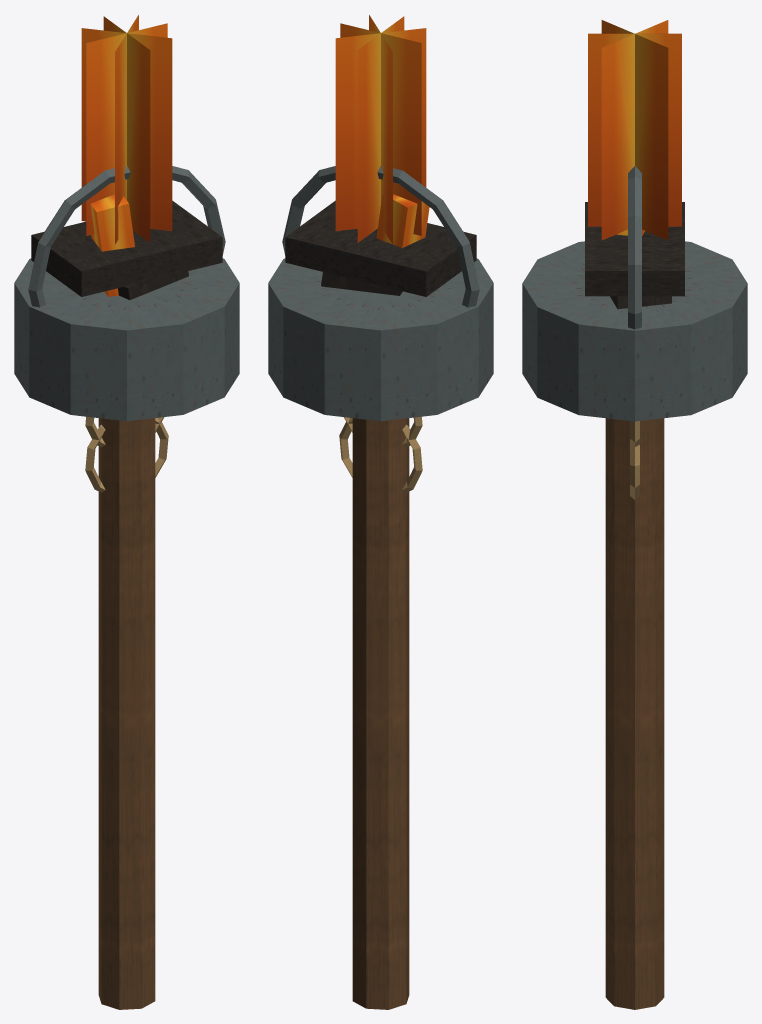
The model's file is en-021_torch_stand__lit.obj.
3 views of the same model, side by side, from view 1: azimuth 30°, elevation 25°; view 2: azimuth 150°, elevation 25°; view 3: azimuth 270°, elevation 25° (orthographic).
Parts seen in each view (by area): view 1: en-021_torch_stand__lit; view 2: en-021_torch_stand__lit; view 3: en-021_torch_stand__lit.
Boxes of the visible parts, x1=… form: en-021_torch_stand__lit: x1=14, y1=15, x2=239, y2=1009; en-021_torch_stand__lit: x1=268, y1=15, x2=493, y2=1009; en-021_torch_stand__lit: x1=522, y1=20, x2=747, y2=1009.
Size of the model in its own units: 0.364 by 1.7 by 0.36.
Materials: 5 (5 with a texture image).
